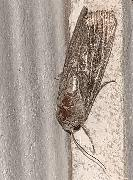army worm adult: (52, 1, 121, 175)
